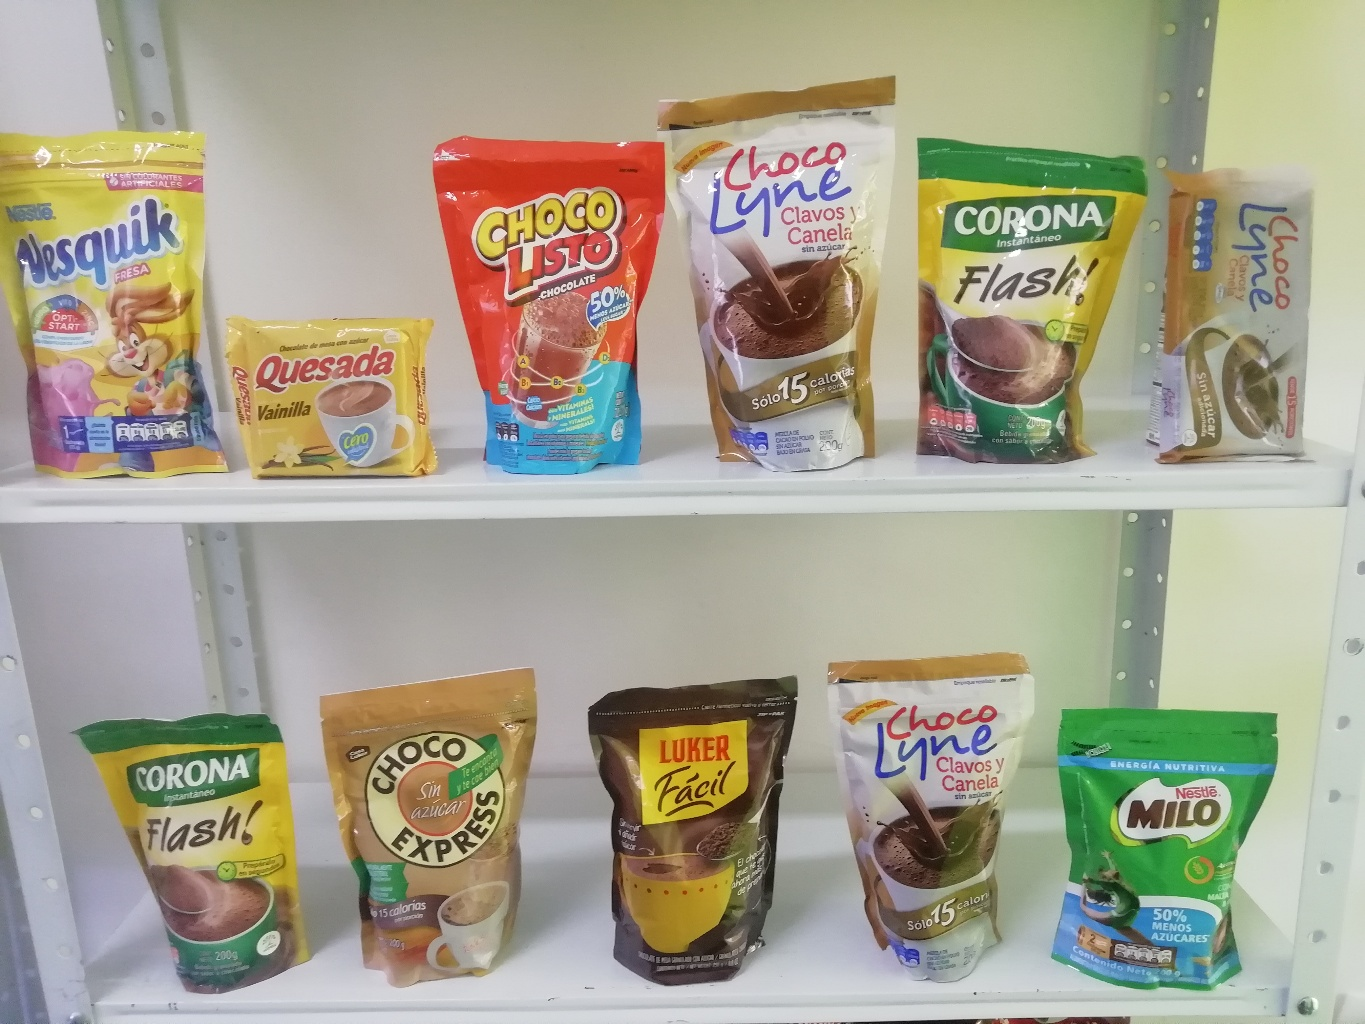COL0170104DYP20000: (433, 138, 669, 477)
COL0170205DYP20000: (1047, 705, 1277, 985)
COL0170305DYP20000: (1, 133, 234, 484)
